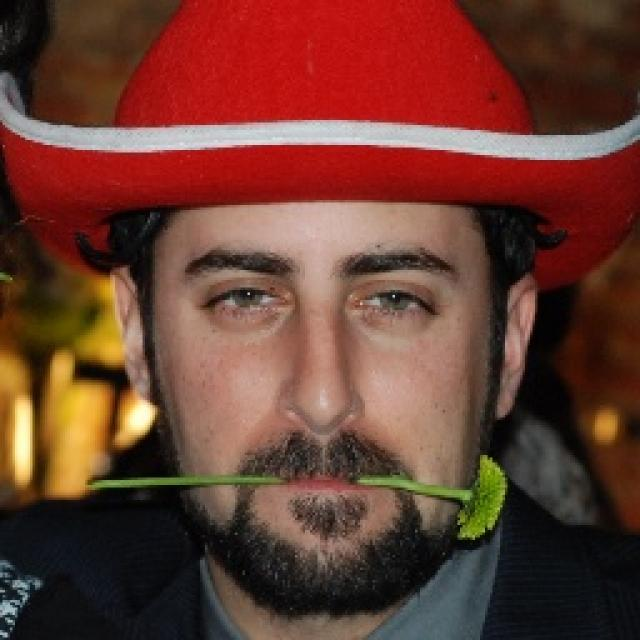earlobe: (485, 368, 522, 422), (124, 350, 160, 403)
eye: (209, 286, 284, 316), (352, 290, 432, 316)
nose: (274, 406, 374, 482)
wholeear: (485, 272, 538, 422), (107, 260, 161, 402)
